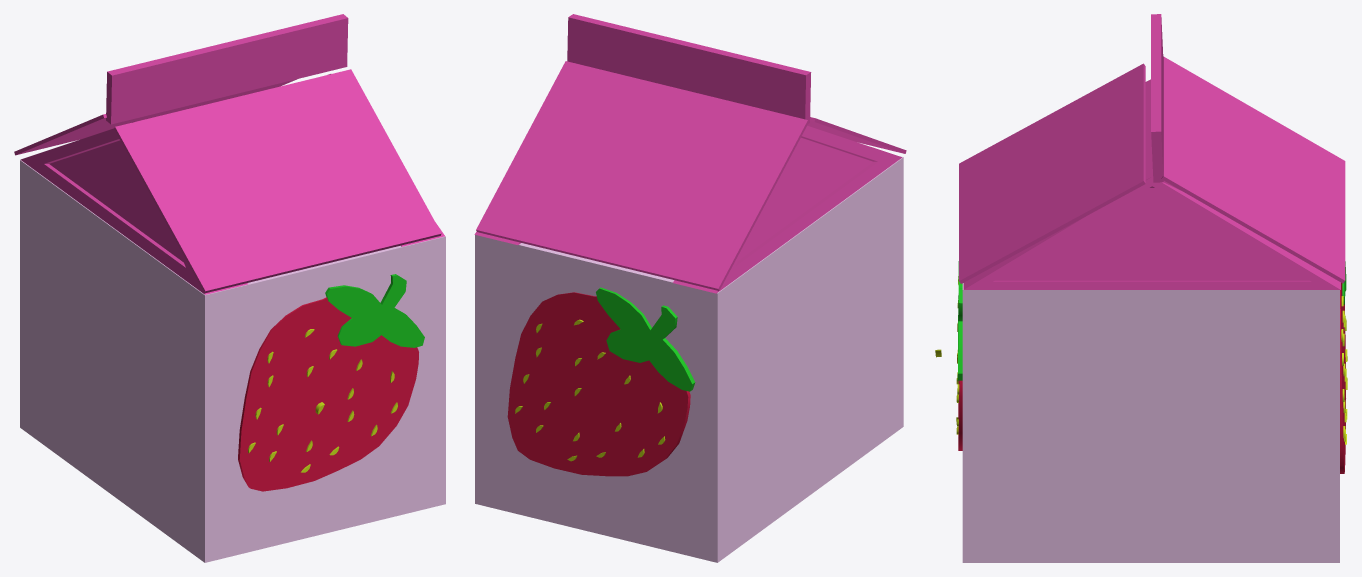
The model's file is strawberrymilk.FBX.
3 views of the same model, side by side, from view 1: azimuth 30°, elevation 25°; view 2: azimuth 150°, elevation 25°; view 3: azimuth 270°, elevation 25° (orthographic). The views are drawn at different scales.
Parts seen in each view (by area): view 1: Box001, Box002, Line001, Box004, Pyramid002, Line002, Box003; view 2: Box001, Box003, Line066, Box004, Pyramid002, Line067, Box002; view 3: Box001, Box002, Box003, Pyramid001, Box004, Line066, Pyramid002, Line002.
Boxes of the visible parts, <box> form: Box001: <box>20,160,445,562</box>; Box002: <box>114,69,441,293</box>; Line001: <box>238,297,418,491</box>; Box004: <box>106,14,348,124</box>; Pyramid002: <box>20,121,247,294</box>; Line002: <box>325,274,424,347</box>; Box003: <box>14,79,297,155</box>; Box001: <box>475,156,903,562</box>; Box003: <box>476,61,808,290</box>; Line066: <box>507,292,690,476</box>; Box004: <box>567,14,811,123</box>; Pyramid002: <box>673,125,901,293</box>; Line067: <box>596,287,695,391</box>; Box002: <box>807,117,906,153</box>; Box001: <box>962,283,1339,562</box>; Box002: <box>959,63,1145,283</box>; Box003: <box>1161,56,1345,283</box>; Pyramid001: <box>963,177,1340,289</box>; Box004: <box>1151,14,1163,182</box>; Line066: <box>1340,282,1345,473</box>; Pyramid002: <box>1145,79,1182,191</box>; Line002: <box>957,261,962,380</box>.
Size of the model in its own units: 14.23 by 23.4 by 20.39.
